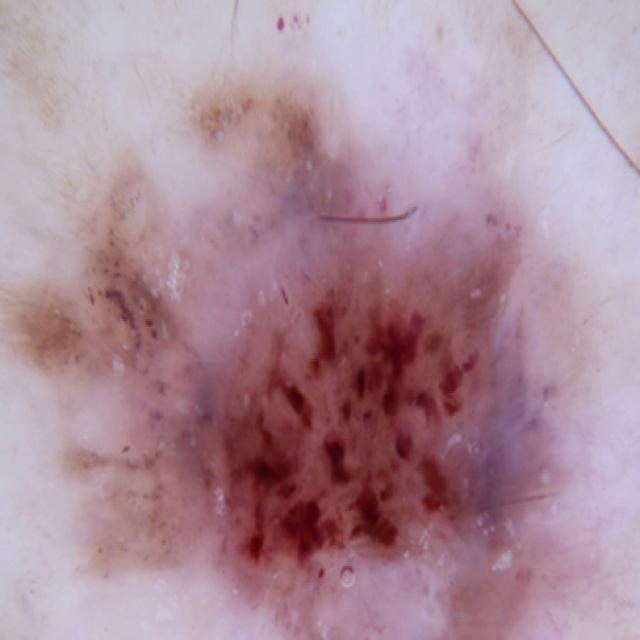Carcinoma: (35, 102, 639, 640)
